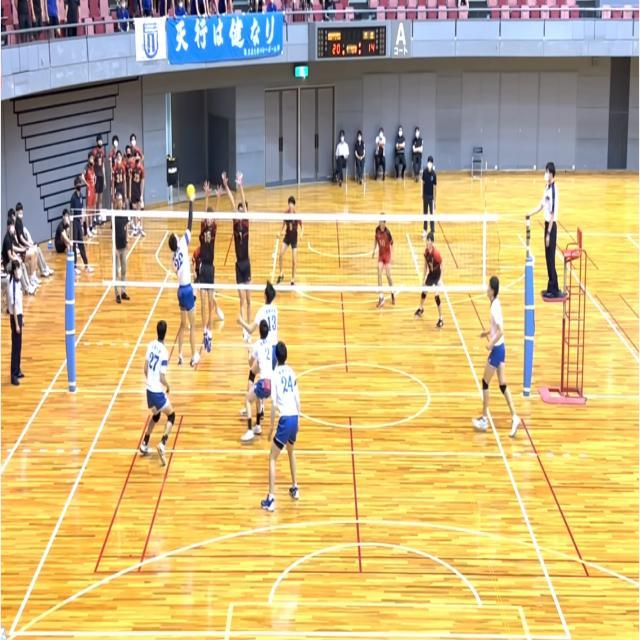spike: (167, 178, 207, 371)
